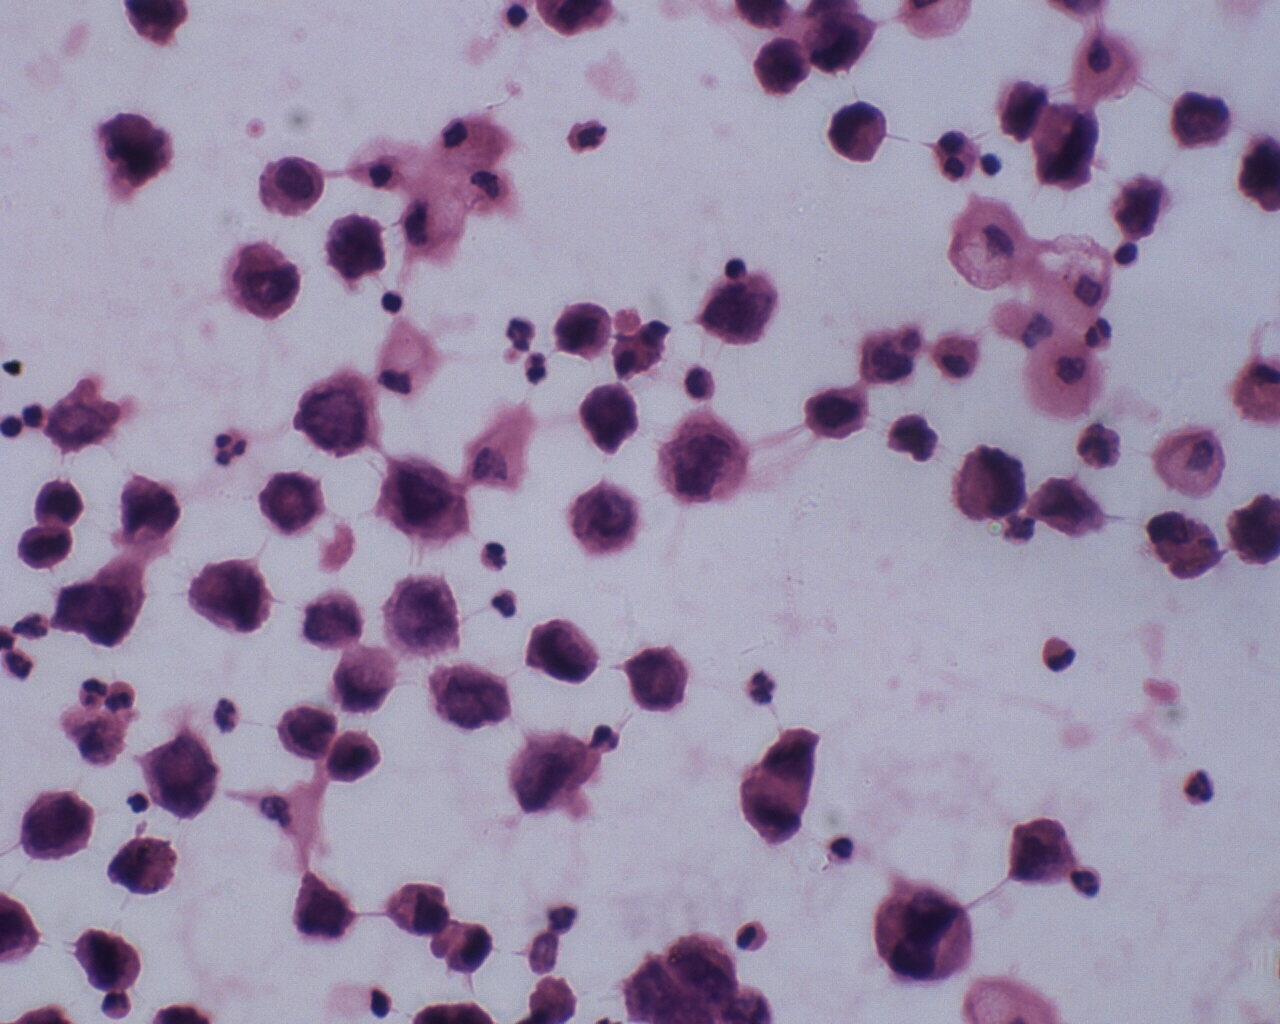ab: (870, 880, 975, 983), (651, 412, 751, 514), (493, 723, 589, 821), (376, 453, 469, 550), (136, 730, 224, 825), (385, 566, 466, 664), (695, 269, 783, 352), (188, 559, 282, 636), (565, 478, 649, 563), (424, 656, 513, 737), (222, 235, 304, 321), (18, 787, 103, 867), (950, 442, 1028, 526), (61, 925, 145, 1000), (1030, 104, 1098, 193), (287, 863, 359, 944), (575, 378, 644, 459), (527, 616, 603, 686), (621, 643, 693, 716), (321, 215, 390, 285), (257, 468, 325, 539), (1170, 88, 1233, 152), (386, 881, 453, 939), (753, 34, 813, 99), (805, 385, 865, 443), (277, 702, 335, 760), (328, 729, 381, 787), (14, 525, 75, 573), (31, 478, 85, 523)
histo: (1019, 329, 1110, 425), (1144, 418, 1221, 496)
lymph: (1113, 239, 1141, 269)
meso: (251, 152, 333, 222)
neutro: (1037, 631, 1079, 676), (211, 426, 254, 469), (1068, 861, 1104, 901), (209, 693, 242, 736), (516, 348, 549, 389), (1184, 767, 1215, 804)
